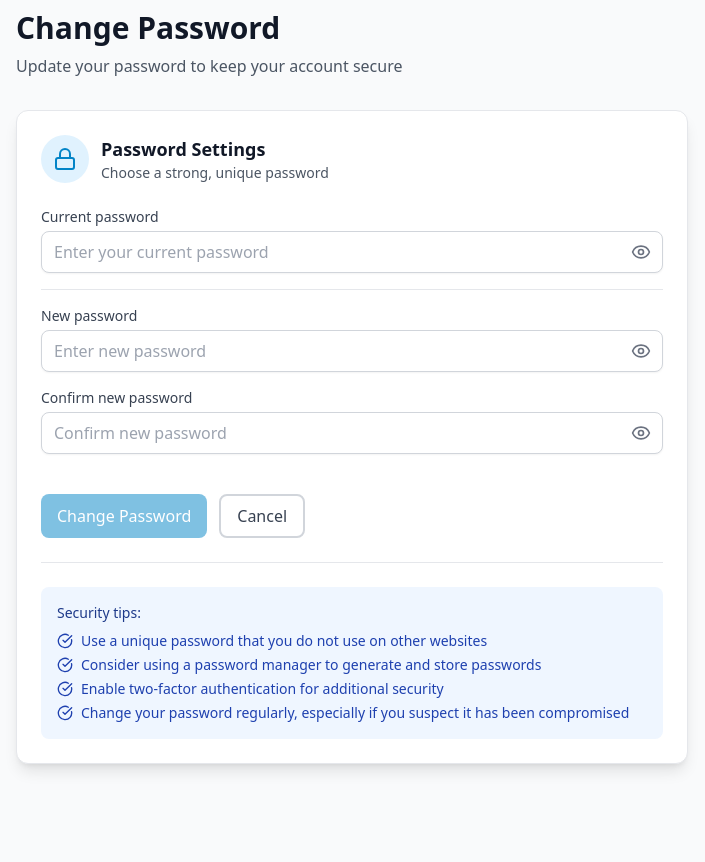
Scenario: ChangePasswordPage › should show error message on failure
The image size is (705, 862).
In the password field labelled "Current password": (352, 252) [41,231,663,273], type "WrongPassword123!"
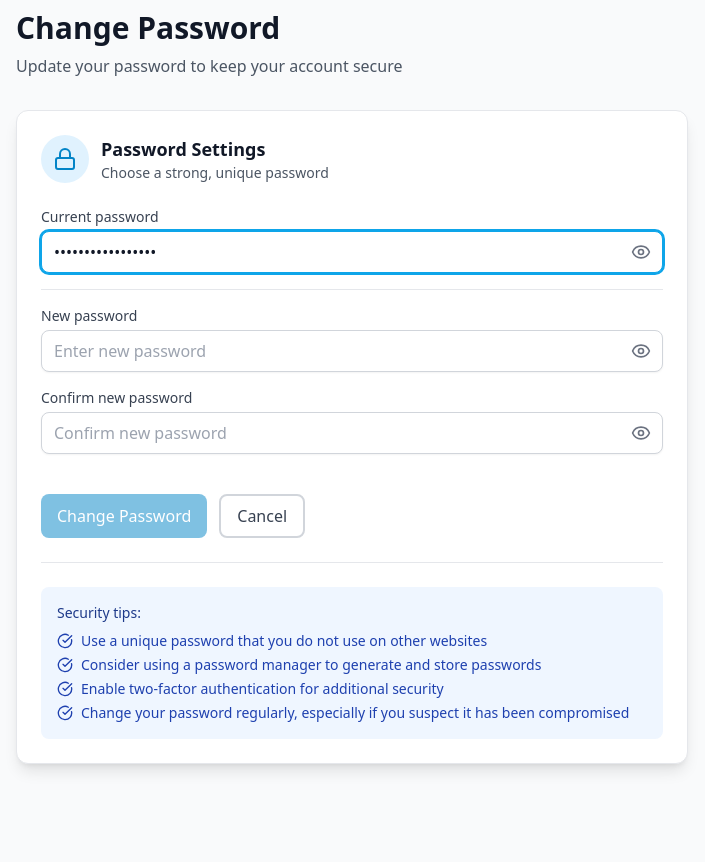
In the password field labelled "New password": (352, 351) [41,330,663,372], type "NewPassword123!"
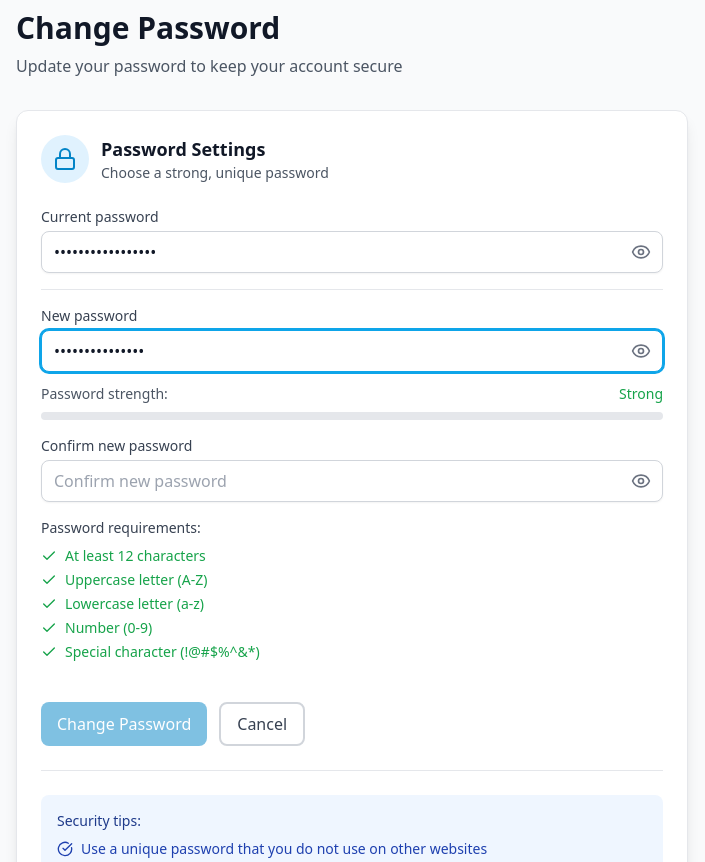
In the password field labelled "Confirm new password": (352, 481) [41,460,663,502], type "NewPassword123!"
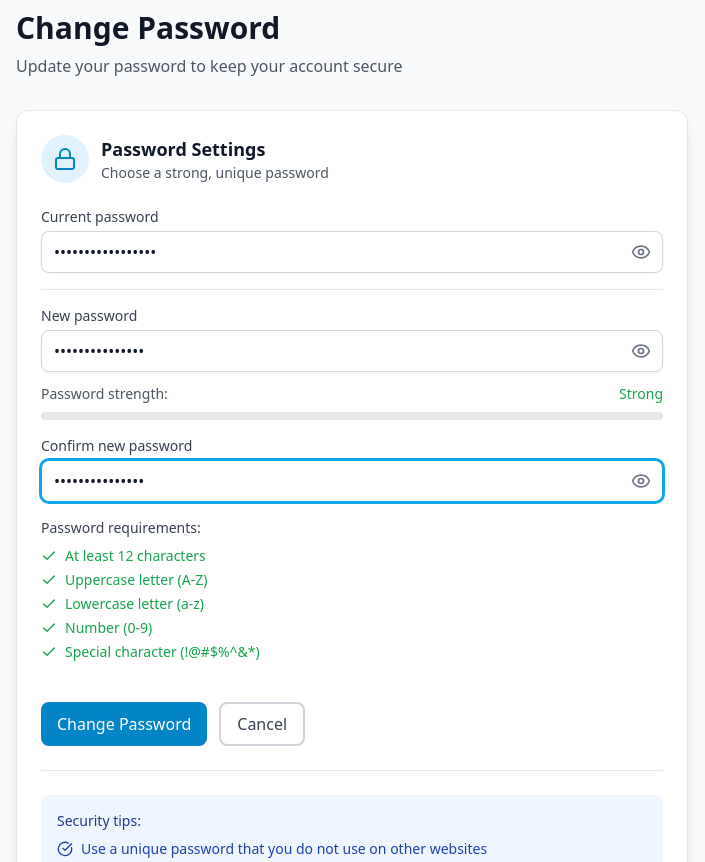
Click the button "Change Password": (124, 724) [41,702,207,746]
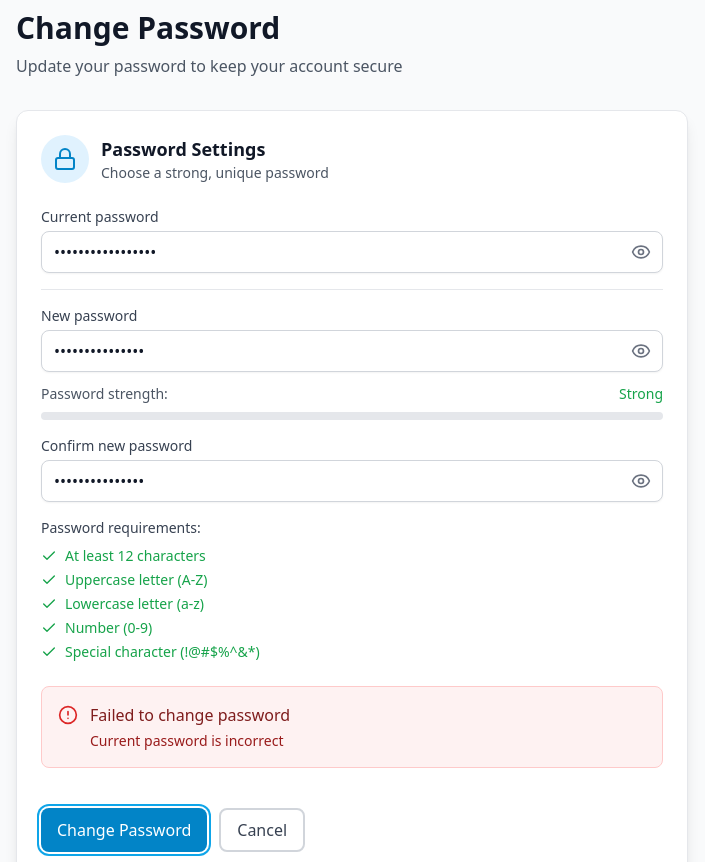
expect the text "Failed to change password" is shown: met, box [90,703,290,727]
